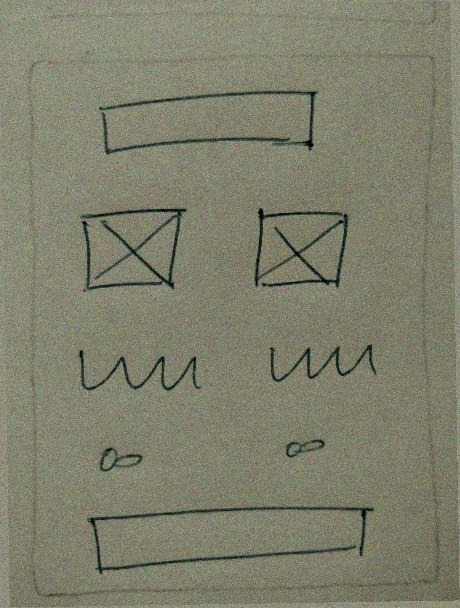image: (67, 196, 196, 304), (242, 195, 355, 299)
switch: (83, 435, 155, 483), (271, 420, 339, 465)
text: (66, 339, 215, 408), (260, 334, 386, 395)
text_input: (71, 495, 377, 578), (88, 84, 327, 162)
